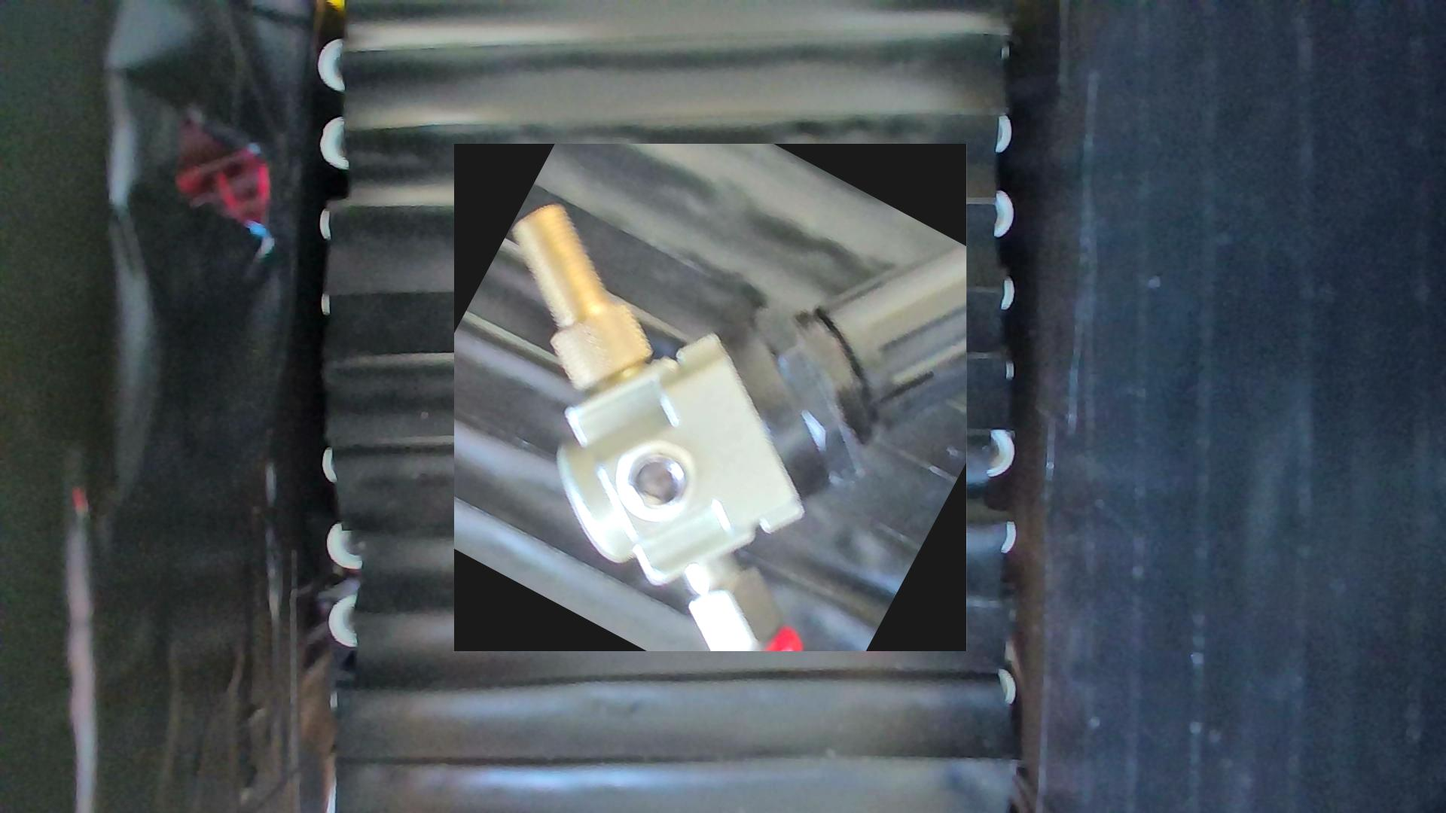regulator: (455, 144, 968, 651)
